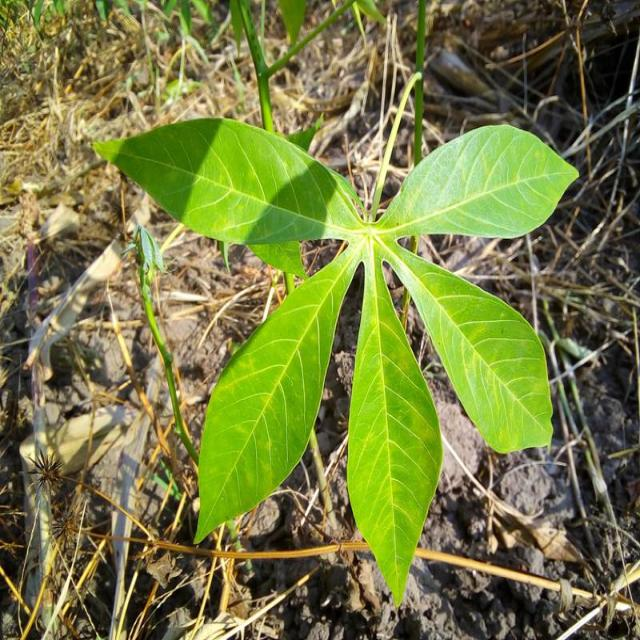cassava leaf: (92, 84, 581, 607), (192, 237, 366, 546), (92, 114, 364, 273), (378, 236, 555, 454), (346, 238, 445, 609), (377, 122, 580, 240)
